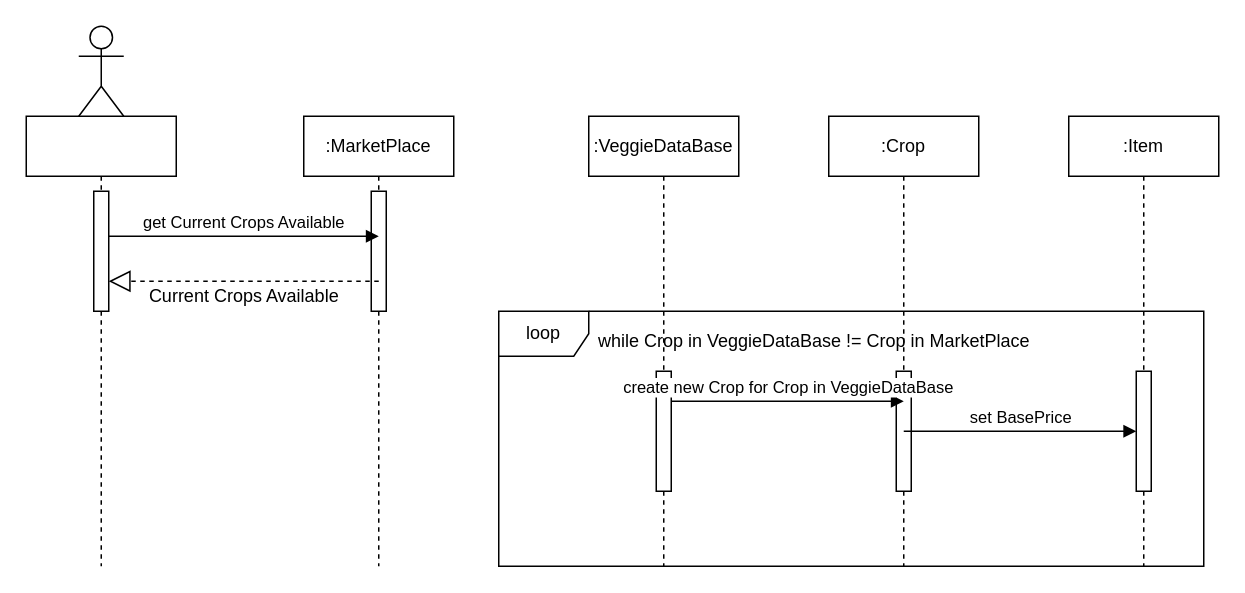
This 1245x593 diagram has some shape labels left out. The centre of each missing label's shape, as x and y in pixels:
":Programmer" goes at (x=100, y=340).
"Actor" goes at (x=100, y=70).
